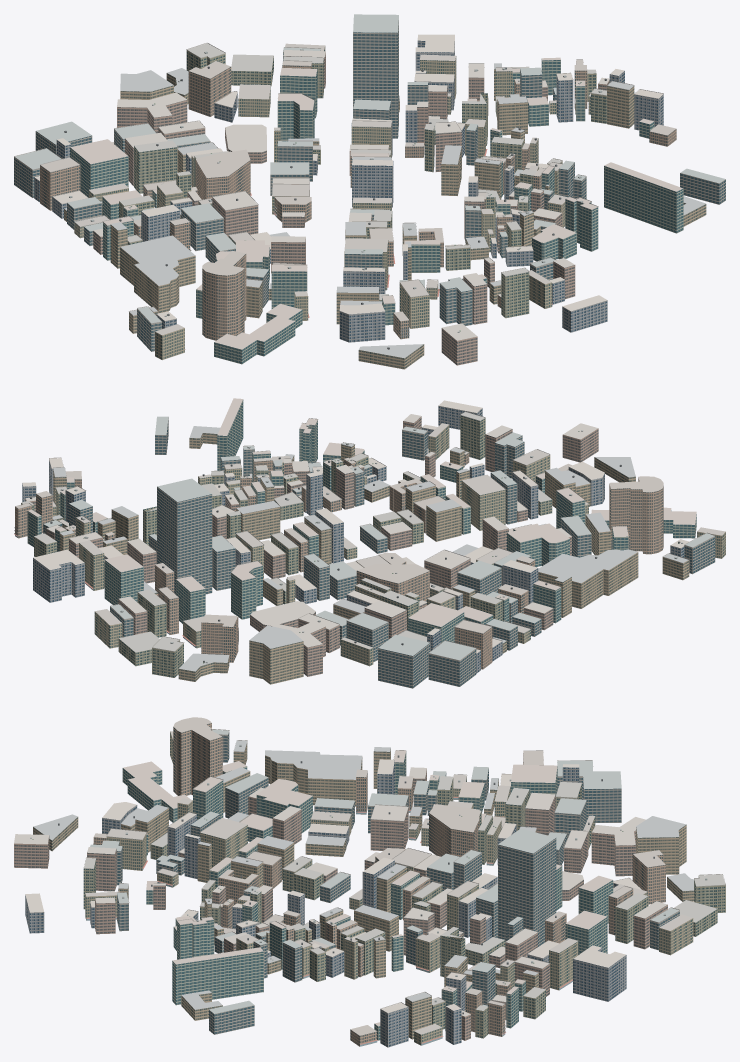
The picture shows the model from 3 angles, top to bottom: view 1: azimuth 30°, elevation 25°; view 2: azimuth 150°, elevation 25°; view 3: azimuth 270°, elevation 25°; orthographic projection. The views are drawn at different scales.
Visible parts, largest first — view 1: Station 15 surrounding real OSM building footprints; view 2: Station 15 surrounding real OSM building footprints; view 3: Station 15 surrounding real OSM building footprints.
Boxes of the visible parts, x1,y1,x2,y2 form: Station 15 surrounding real OSM building footprints: [14, 14, 725, 369]; Station 15 surrounding real OSM building footprints: [14, 398, 725, 688]; Station 15 surrounding real OSM building footprints: [14, 717, 725, 1047].
Bounding box in the file's own units: 666 × 110 × 684.
Materials: 25 (8 with a texture image).
